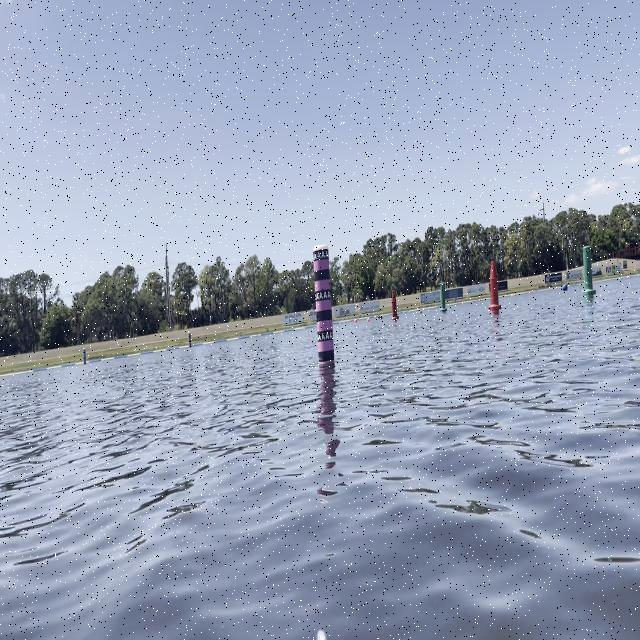buoy: (563, 281, 568, 296)
